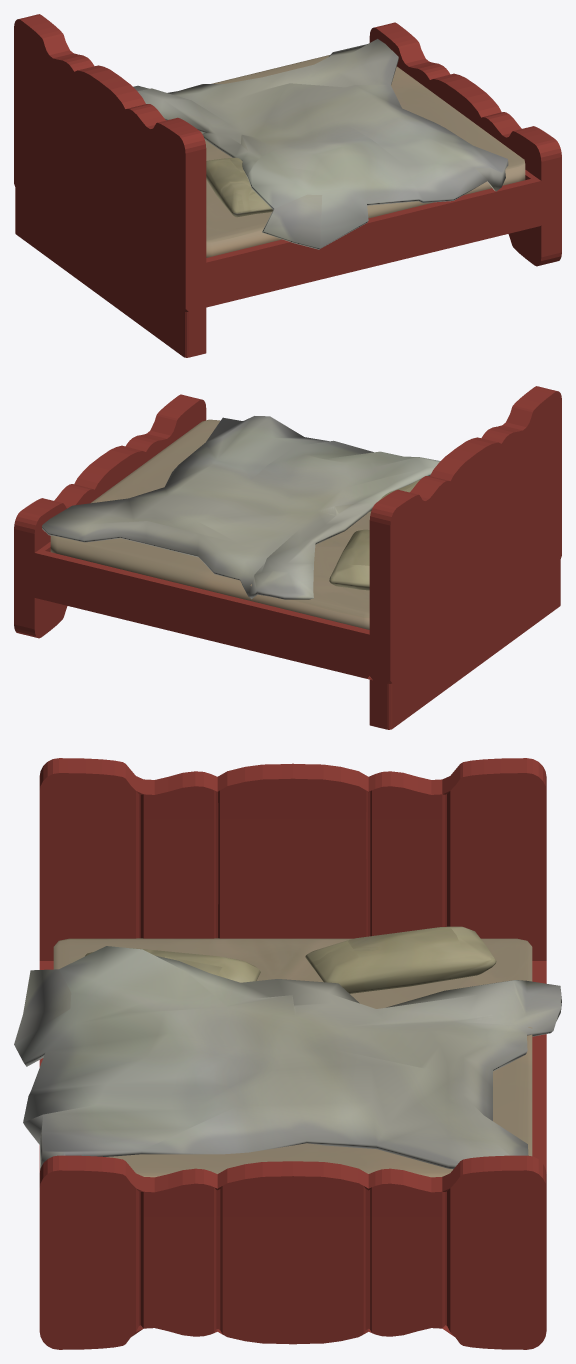
Rendered from cama_presente.glb.
3 views of the same model, one above another, from view 1: azimuth 30°, elevation 25°; view 2: azimuth 150°, elevation 25°; view 3: azimuth 270°, elevation 25° (orthographic). The views are drawn at different scales.
Visible parts, largest first — view 1: cabeceira_cama, coberta, base_da_cama, colchao02, travesseiro; view 2: cabeceira_cama, coberta, colchao02, base_da_cama, travesseiro.001; view 3: base_da_cama, cabeceira_cama, coberta, colchao02, travesseiro.001, travesseiro.
Part boxes in pixels (<box>): cabeceira_cama: <box>14,14,543,357</box>; coberta: <box>133,39,508,249</box>; base_da_cama: <box>369,22,561,266</box>; colchao02: <box>202,55,525,257</box>; travesseiro: <box>206,157,272,217</box>; cabeceira_cama: <box>32,386,561,729</box>; coberta: <box>42,416,440,599</box>; colchao02: <box>50,419,370,629</box>; base_da_cama: <box>14,394,206,638</box>; travesseiro.001: <box>329,529,369,590</box>; base_da_cama: <box>39,1155,546,1349</box>; cabeceira_cama: <box>39,758,546,1173</box>; coberta: <box>14,946,561,1169</box>; colchao02: <box>53,938,532,1177</box>; travesseiro.001: <box>305,926,496,993</box>; travesseiro: <box>85,948,260,982</box>.
Size of the model in its own units: 2.49 by 1.37 by 2.12.
5 materials, 5 textured.
